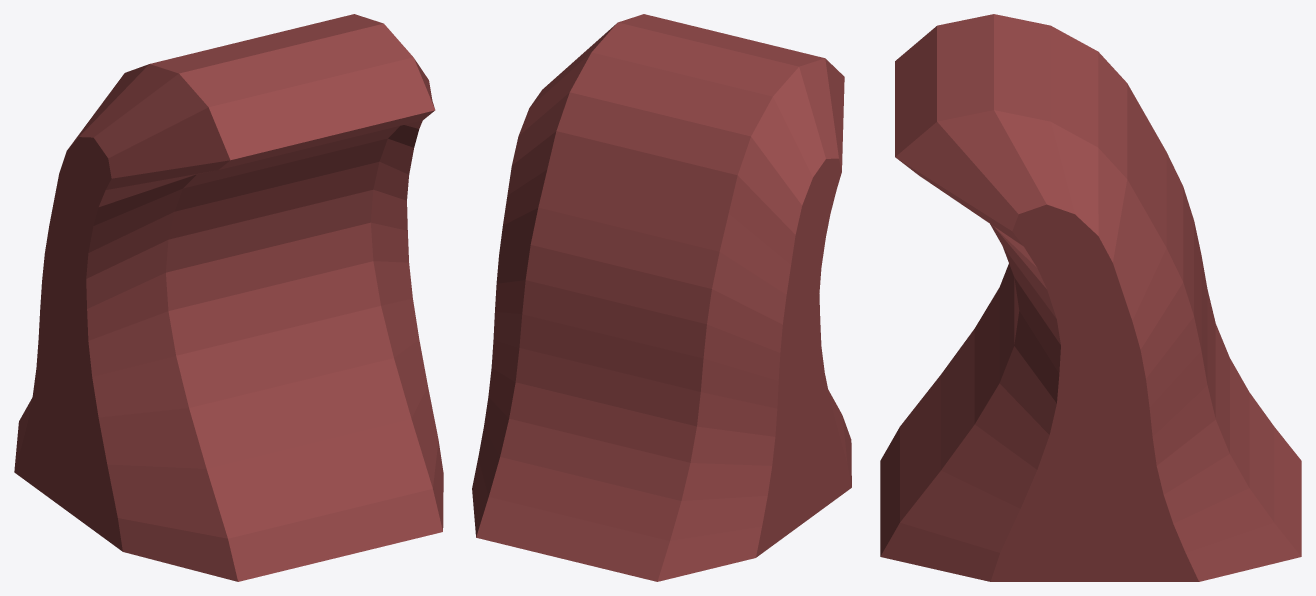
Rendered from waves.FBX.
3 views of the same model, side by side, from view 1: azimuth 30°, elevation 25°; view 2: azimuth 150°, elevation 25°; view 3: azimuth 270°, elevation 25° (orthographic). The views are drawn at different scales.
Visible parts, largest first — view 1: centerWave; view 2: centerWave; view 3: centerWave.
Boxes of the visible parts, left/top/right/bottom form: centerWave: left=14, top=14, right=443, bottom=581; centerWave: left=472, top=14, right=851, bottom=581; centerWave: left=880, top=14, right=1301, bottom=581.
Bounding box in the file's own units: 61.63 × 85.39 × 72.97.
